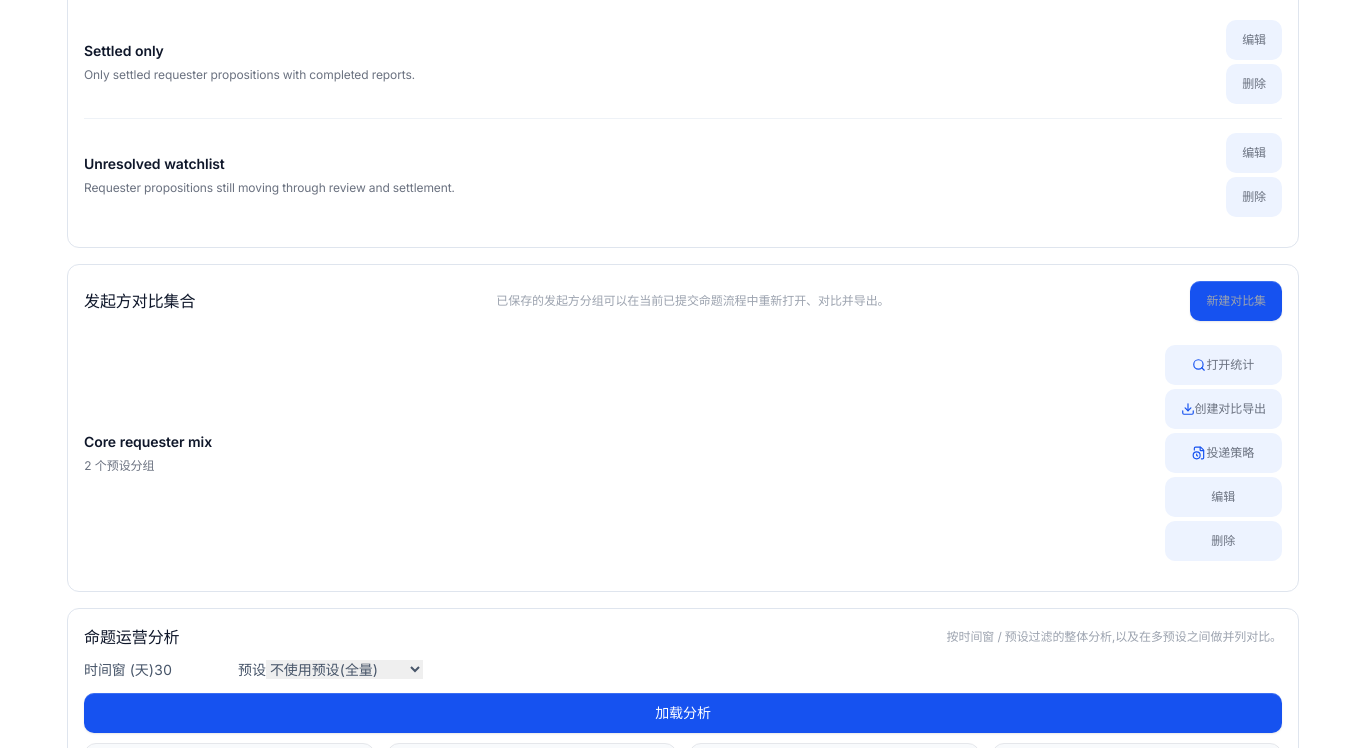
Test: submissions page › opens requester comparison set analytics and export artifacts from the submissions flow
(page scrolled)
expect the element with test id "requester-comparison-set-section" is shown: met, box [67,264,1299,592]
expect the element with test id "requester-comparison-set-item" shows "Core requester mix": met, box [84,433,212,450]
Click the button with test id "requester-comparison-set-open".
click(1223, 365)  # box [1164,345,1282,385]
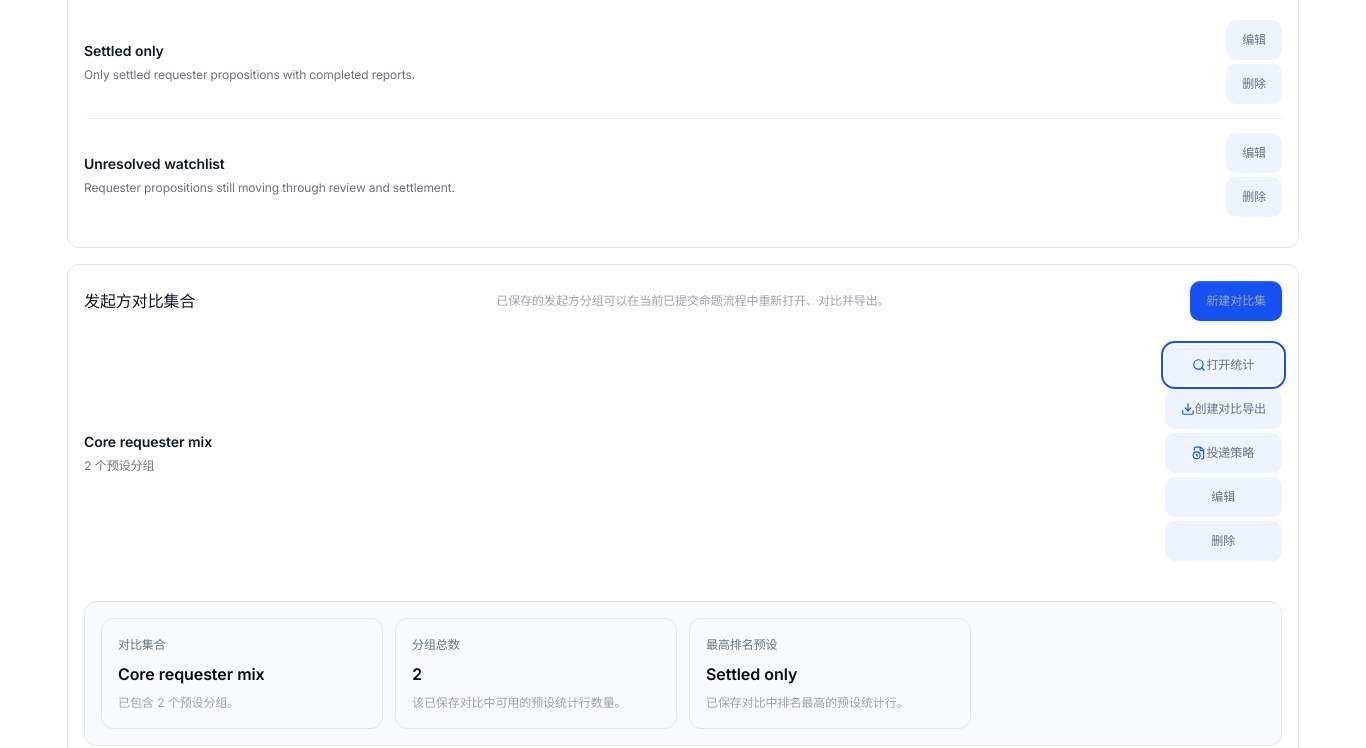
expect the element with test id "requester-comparison-set-detail-panel" is shown: met, box [84,601,1282,746]
expect the text with test id "requester-comparison-set-total-count" reads "2": met, box [412,664,422,684]
expect the text with test id "requester-comparison-set-top-preset" reads "Settled only": met, box [706,664,797,684]
Click the button with test id "requester-comparison-set-create-export".
click(1223, 409)  # box [1164,389,1282,429]
(page scrolled)
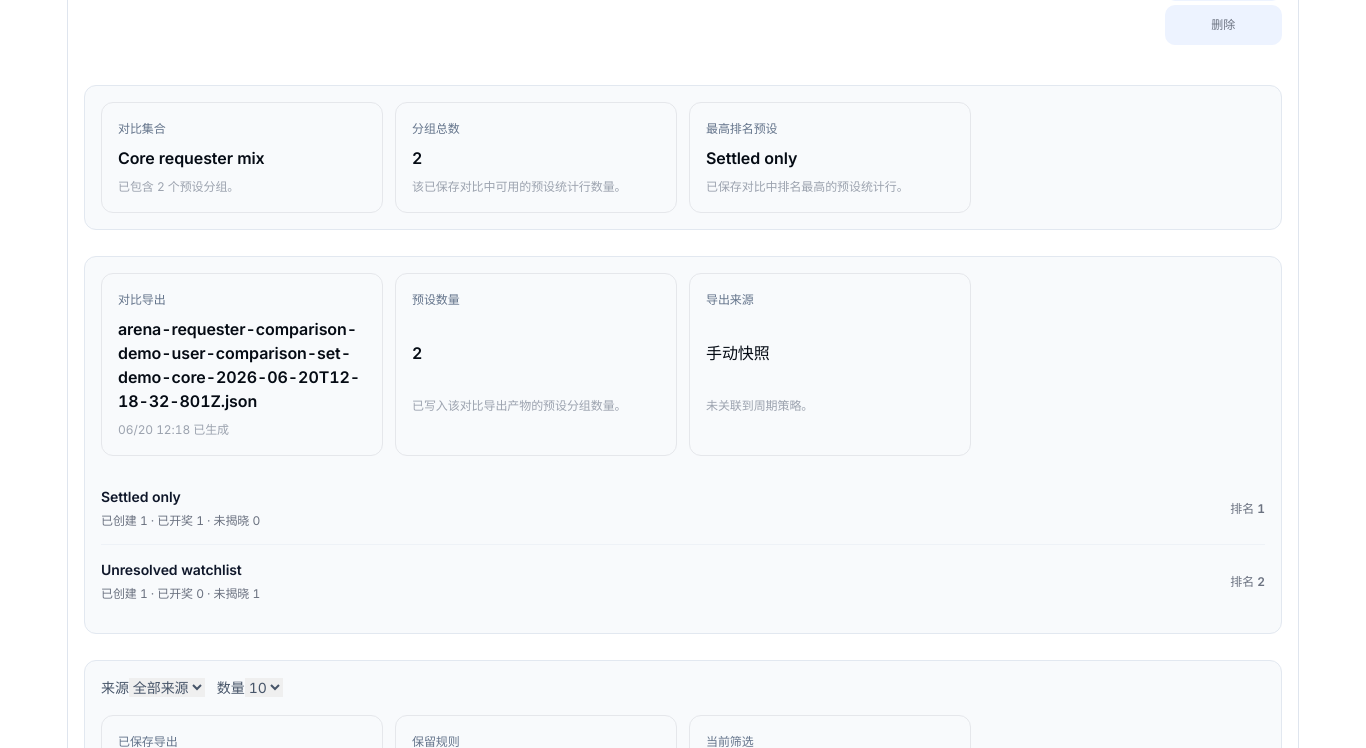
expect the element with test id "requester-comparison-export-detail-panel" is shown: met, box [84,256,1282,634]
expect the text with test id "requester-comparison-export-file-name" shows "arena-requester-comparison-demo-user-": met, box [118,319,360,411]
expect the text with test id "requester-comparison-export-preset-count" reads "2": met, box [412,343,422,363]
